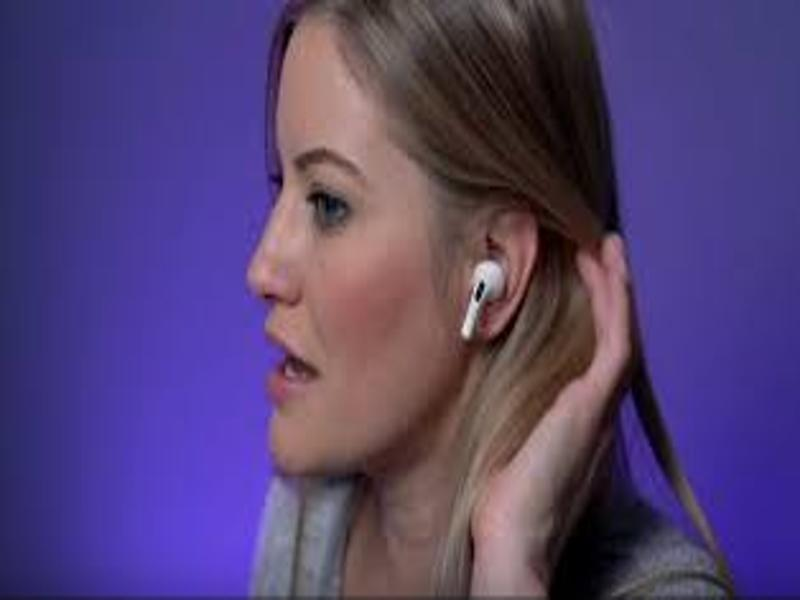headphone: (460, 258, 506, 340)
